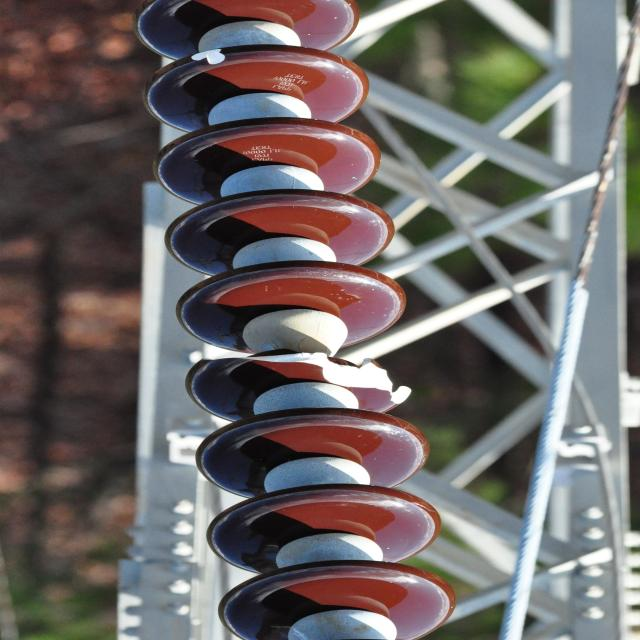broken: (193, 351, 429, 405)
insulator: (136, 0, 455, 637)
